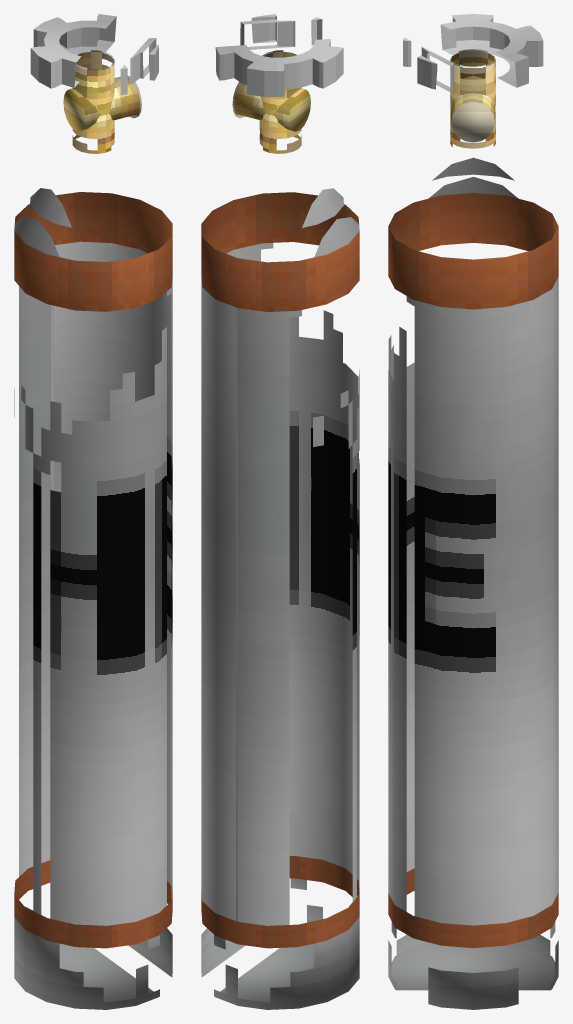
The model's file is WorldItem_HCHeliumTank.fbx.
3 renders of one model, left to right at view 1: azimuth 30°, elevation 25°; view 2: azimuth 150°, elevation 25°; view 3: azimuth 270°, elevation 25°, orthographic.
Parts seen in each view (by area): view 1: Tank; view 2: Tank; view 3: Tank.
Part boxes in pixels (x1,y1,x2,y2): Tank: (14, 14, 172, 1009); Tank: (201, 14, 359, 1009); Tank: (388, 14, 558, 1009).
Bounding box in the file's own units: 0.1328 × 0.8685 × 0.1433.
